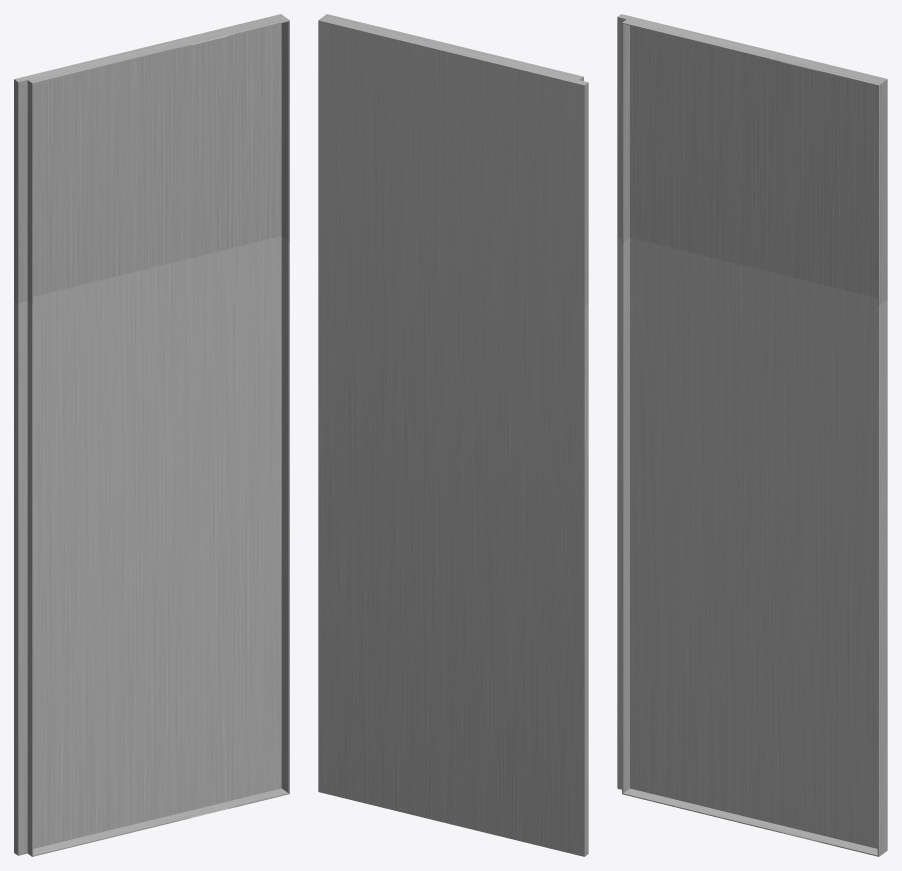
Rendered from left_inner_door.fbx.
3 renders of one model, left to right at view 1: azimuth 30°, elevation 25°; view 2: azimuth 150°, elevation 25°; view 3: azimuth 330°, elevation 25°, orthographic.
Visible parts, largest first — view 1: polySurface32; view 2: polySurface32; view 3: polySurface32.
Boxes of the visible parts, x1,y1,x2,y2 form: polySurface32: [14, 14, 289, 856]; polySurface32: [318, 14, 588, 856]; polySurface32: [617, 14, 887, 856].
Bounding box in the file's own units: 9.54 × 26.4 × 0.5435.
1 material, 1 textured.
